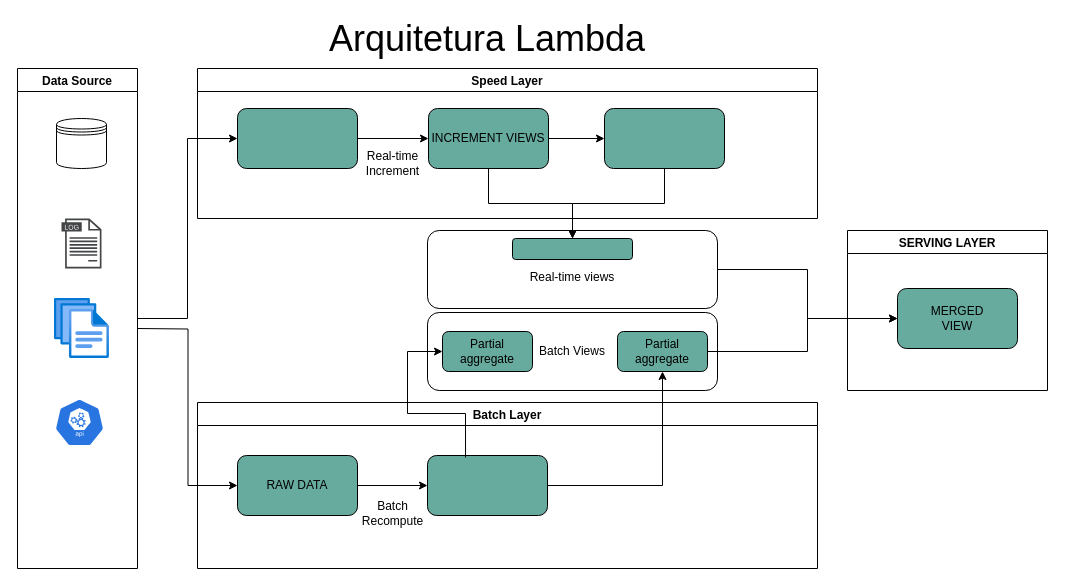
This 1065x586 diagram has some shape labels left out. Each missing label, with the centre of its shape:
"MACHINE LEARNING" belongs at pixel 664 138.
"PRECOMPUTE VIEWS" belongs at pixel 487 485.
"PROCESS STREAM" belongs at pixel 297 138.
"REAL-TIME DATA" belongs at pixel 572 249.
"SQL" belongs at pixel 81 143.
